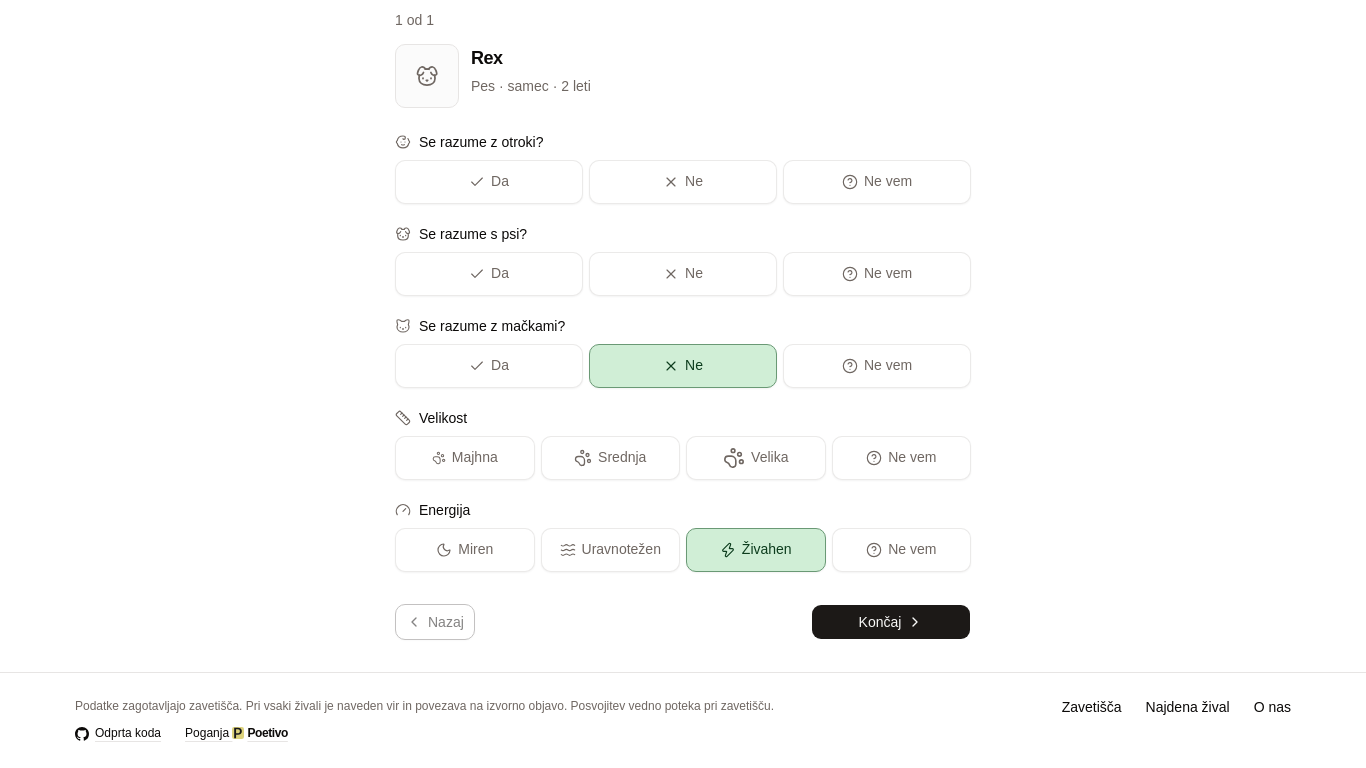
Test: answers the public site already shows › keeps one on Ne vem and says why
(page scrolled)
Expected: the heading "Rex" is shown, x1=471 y1=48 x2=503 y2=68
Click the 5th radio button labelled "Ne vem" at (901, 550), box x1=832 y1=528 x2=971 y2=572
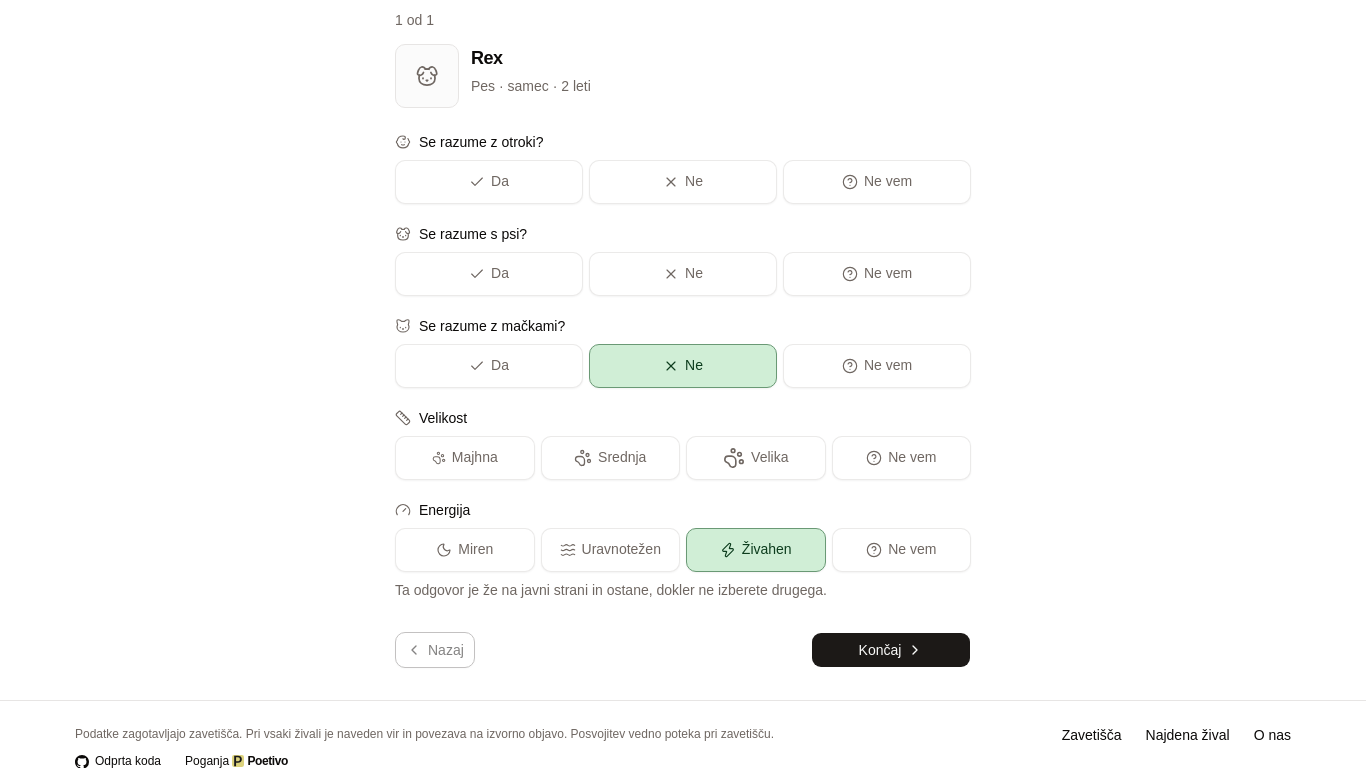
Expected: the text "Ta odgovor je že na javni strani in ostane, dokler ne izberete drugega." is shown, x1=395 y1=582 x2=827 y2=598
